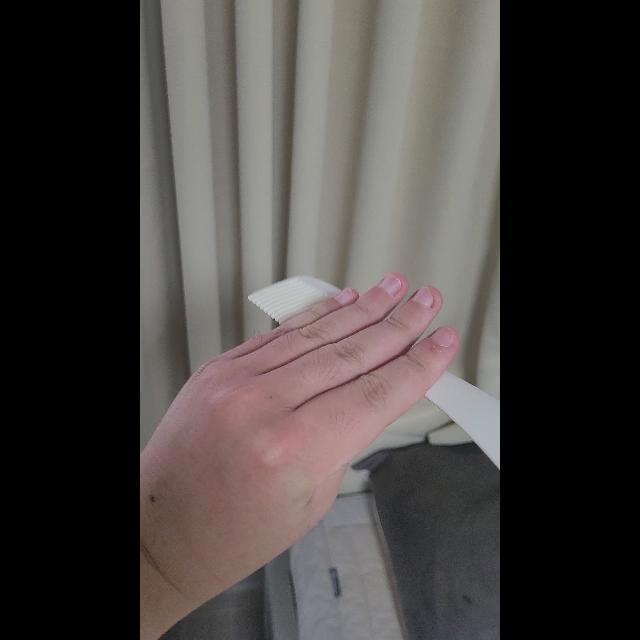COMB: (248, 276, 500, 472)
